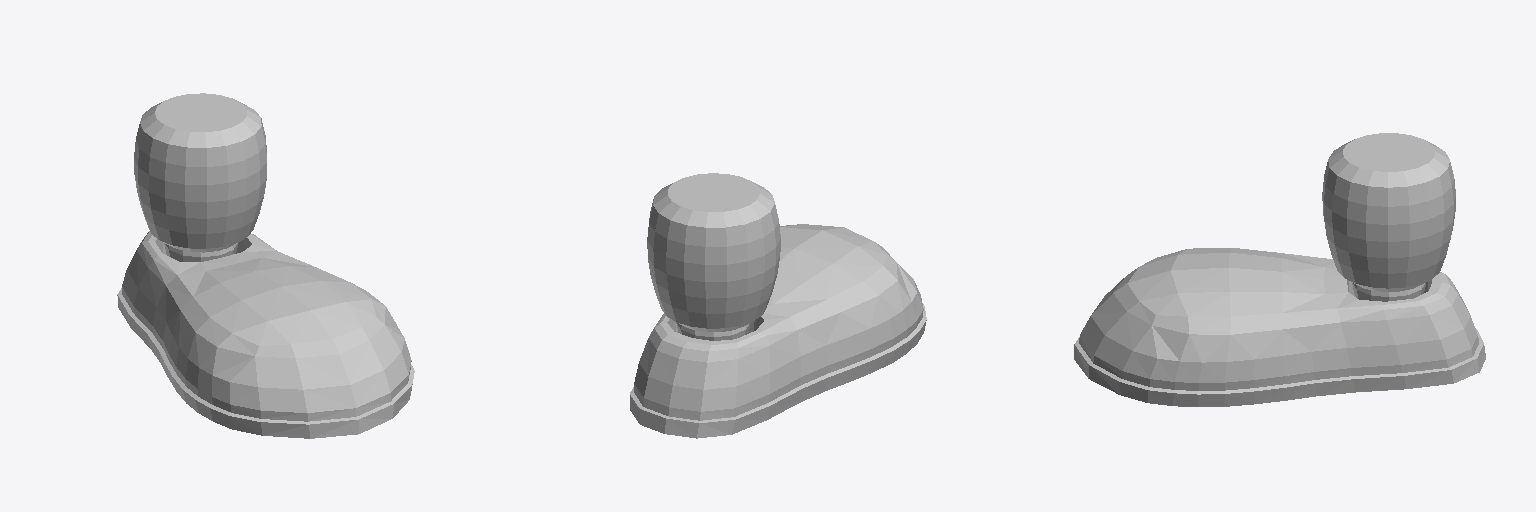
File: piernaIzqAb.obj
3 views of the same model, side by side, from view 1: azimuth 30°, elevation 25°; view 2: azimuth 150°, elevation 25°; view 3: azimuth 270°, elevation 25° (orthographic).
Parts seen in each view (by area): view 1: BalloonBoy.010; view 2: BalloonBoy.010; view 3: BalloonBoy.010.
Boxes of the visible parts, <box> form: BalloonBoy.010: <box>117,93,414,438</box>; BalloonBoy.010: <box>630,173,926,438</box>; BalloonBoy.010: <box>1074,133,1485,406</box>.
Bounding box in the file's own units: 10.19 × 9.89 × 17.91.